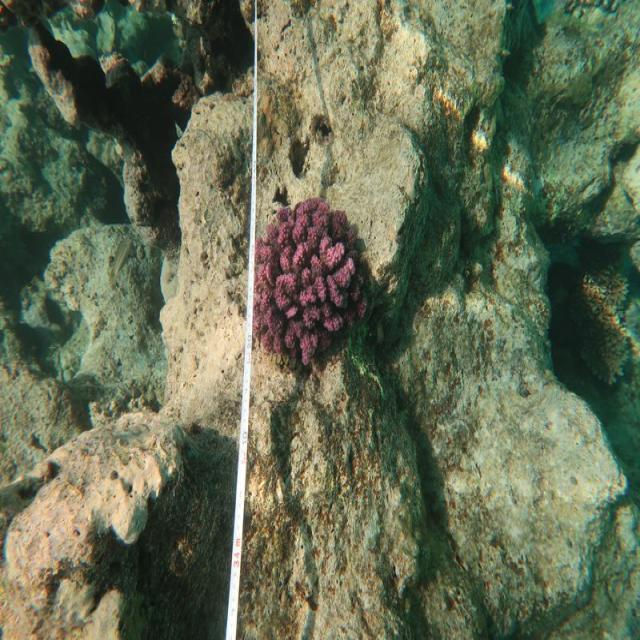Healthy Coral: (247, 189, 376, 387)
